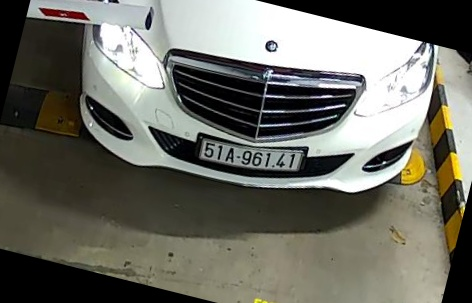plate: (193, 130, 306, 178)
